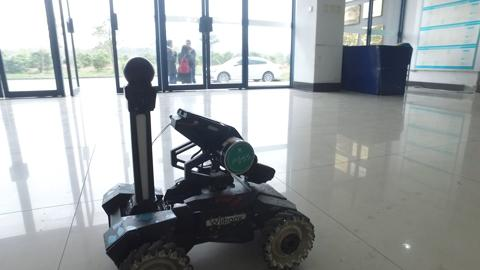chariot: (89, 55, 329, 270)
